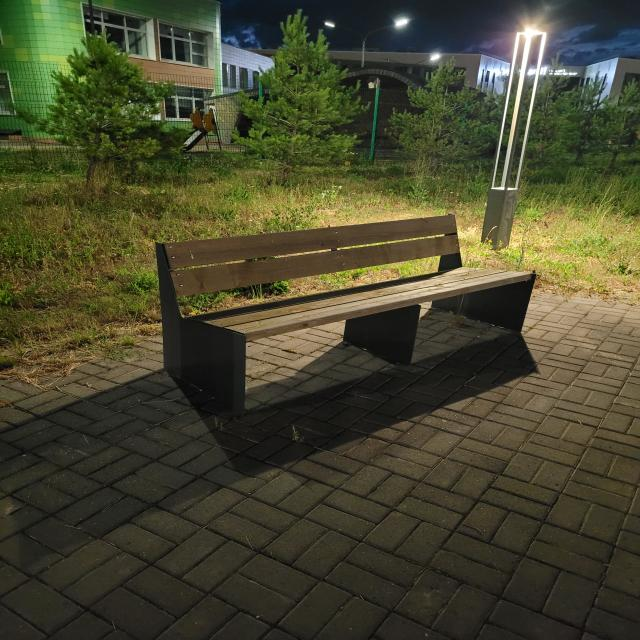Bench: (155, 215, 536, 412)
